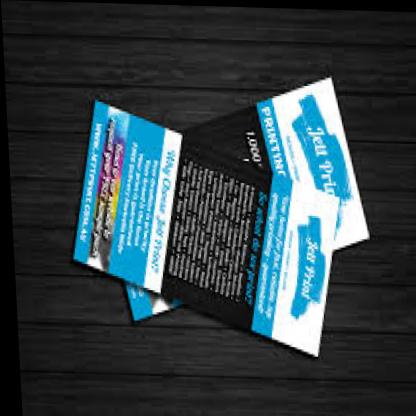Paper: (48, 43, 400, 370)
